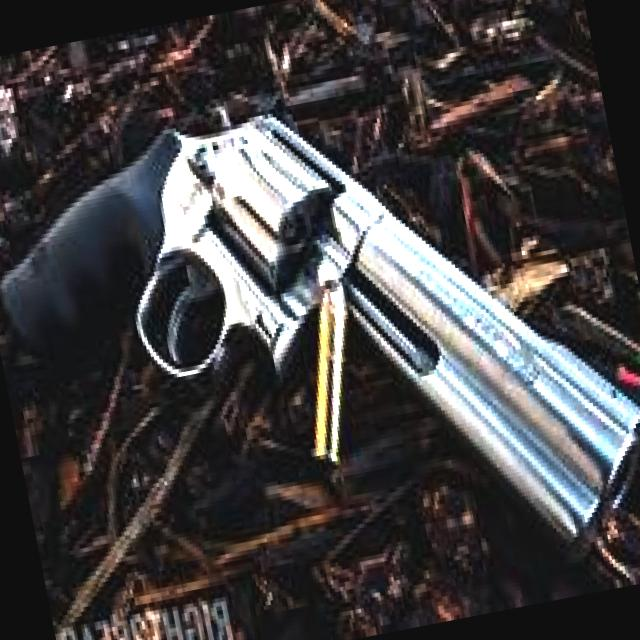revolver: (0, 5, 640, 640)
